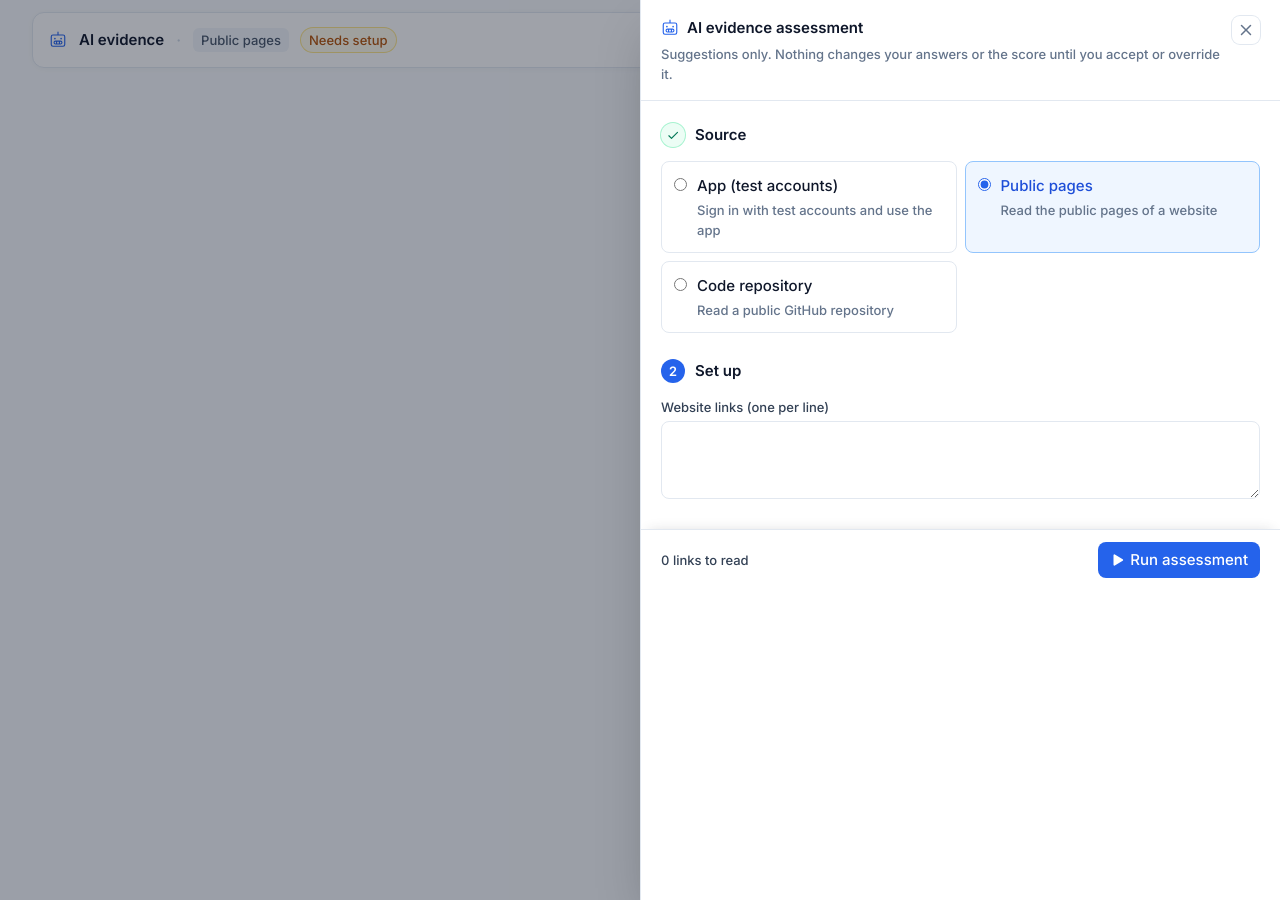
Test: Code repository source in the evidence panel › says "Something went wrong. Try again." when saving fails without a server reply
Earlier steps of the test are not shown.
Click the radio button labelled "Code repository" at (680, 284), box x1=674 y1=278 x2=687 y2=291
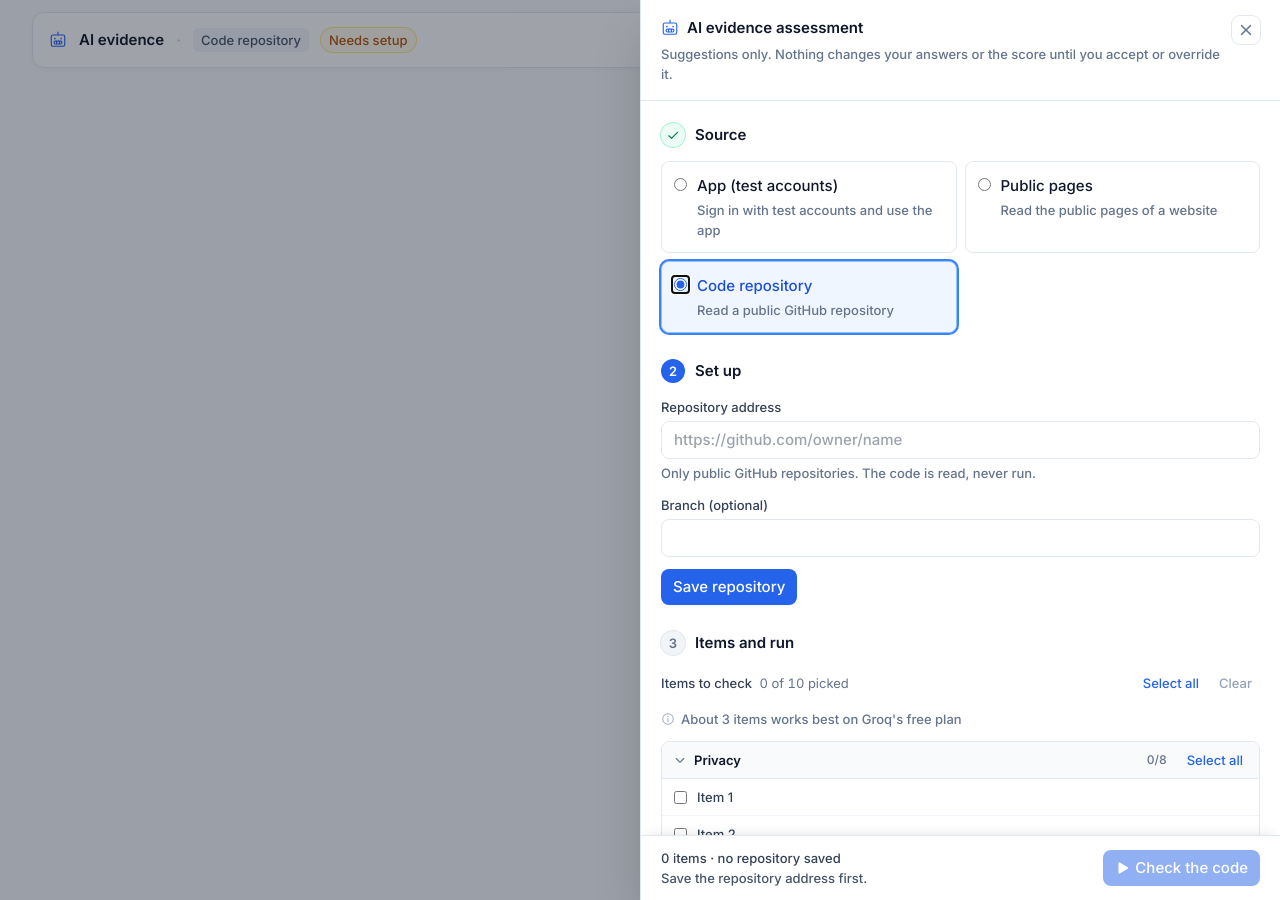
expect the field labelled "Repository address" is shown: met
Type "x" into the field labelled "Repository address" at (960, 440), box x1=661 y1=421 x2=1260 y2=459
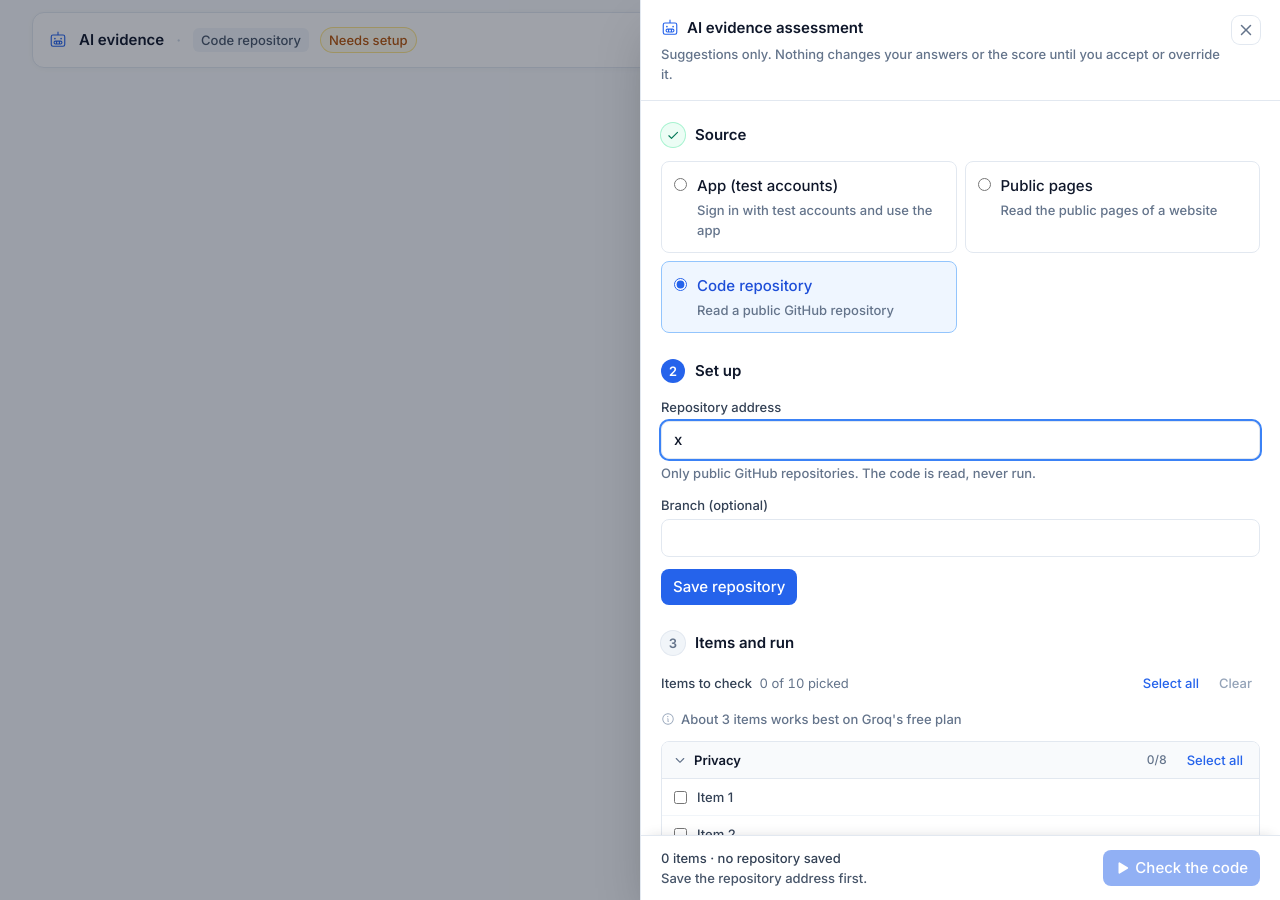
Click the button "Save repository" at (729, 587), box x1=661 y1=569 x2=797 y2=605
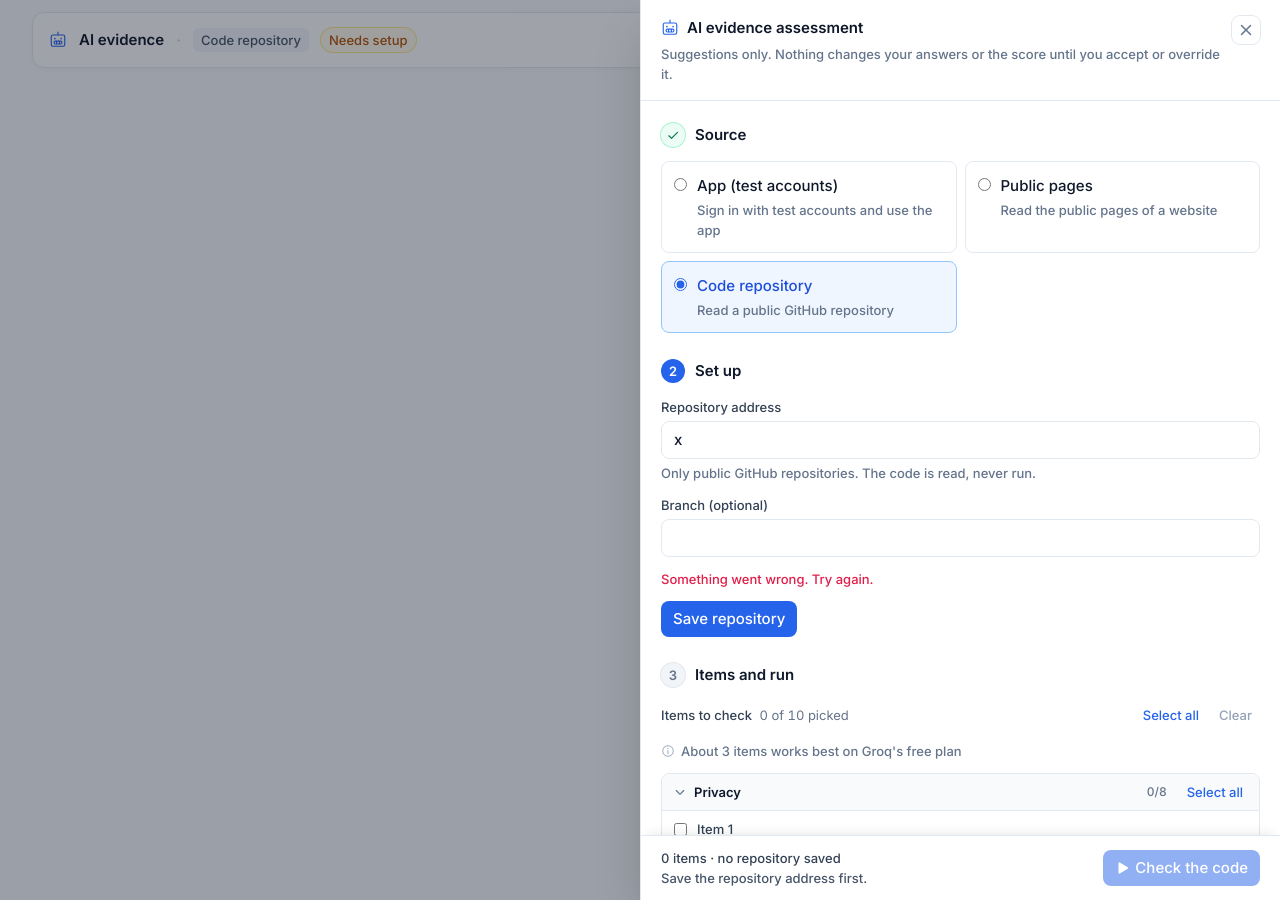
expect the message reads "Something went wrong. Try again.": met, box x1=661 y1=571 x2=874 y2=587
